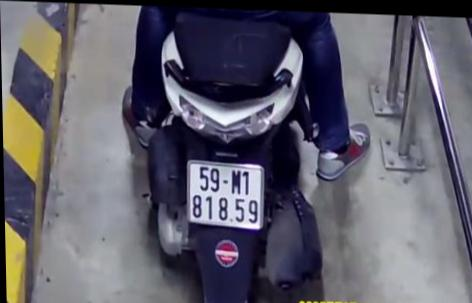LP: (186, 157, 265, 229)
